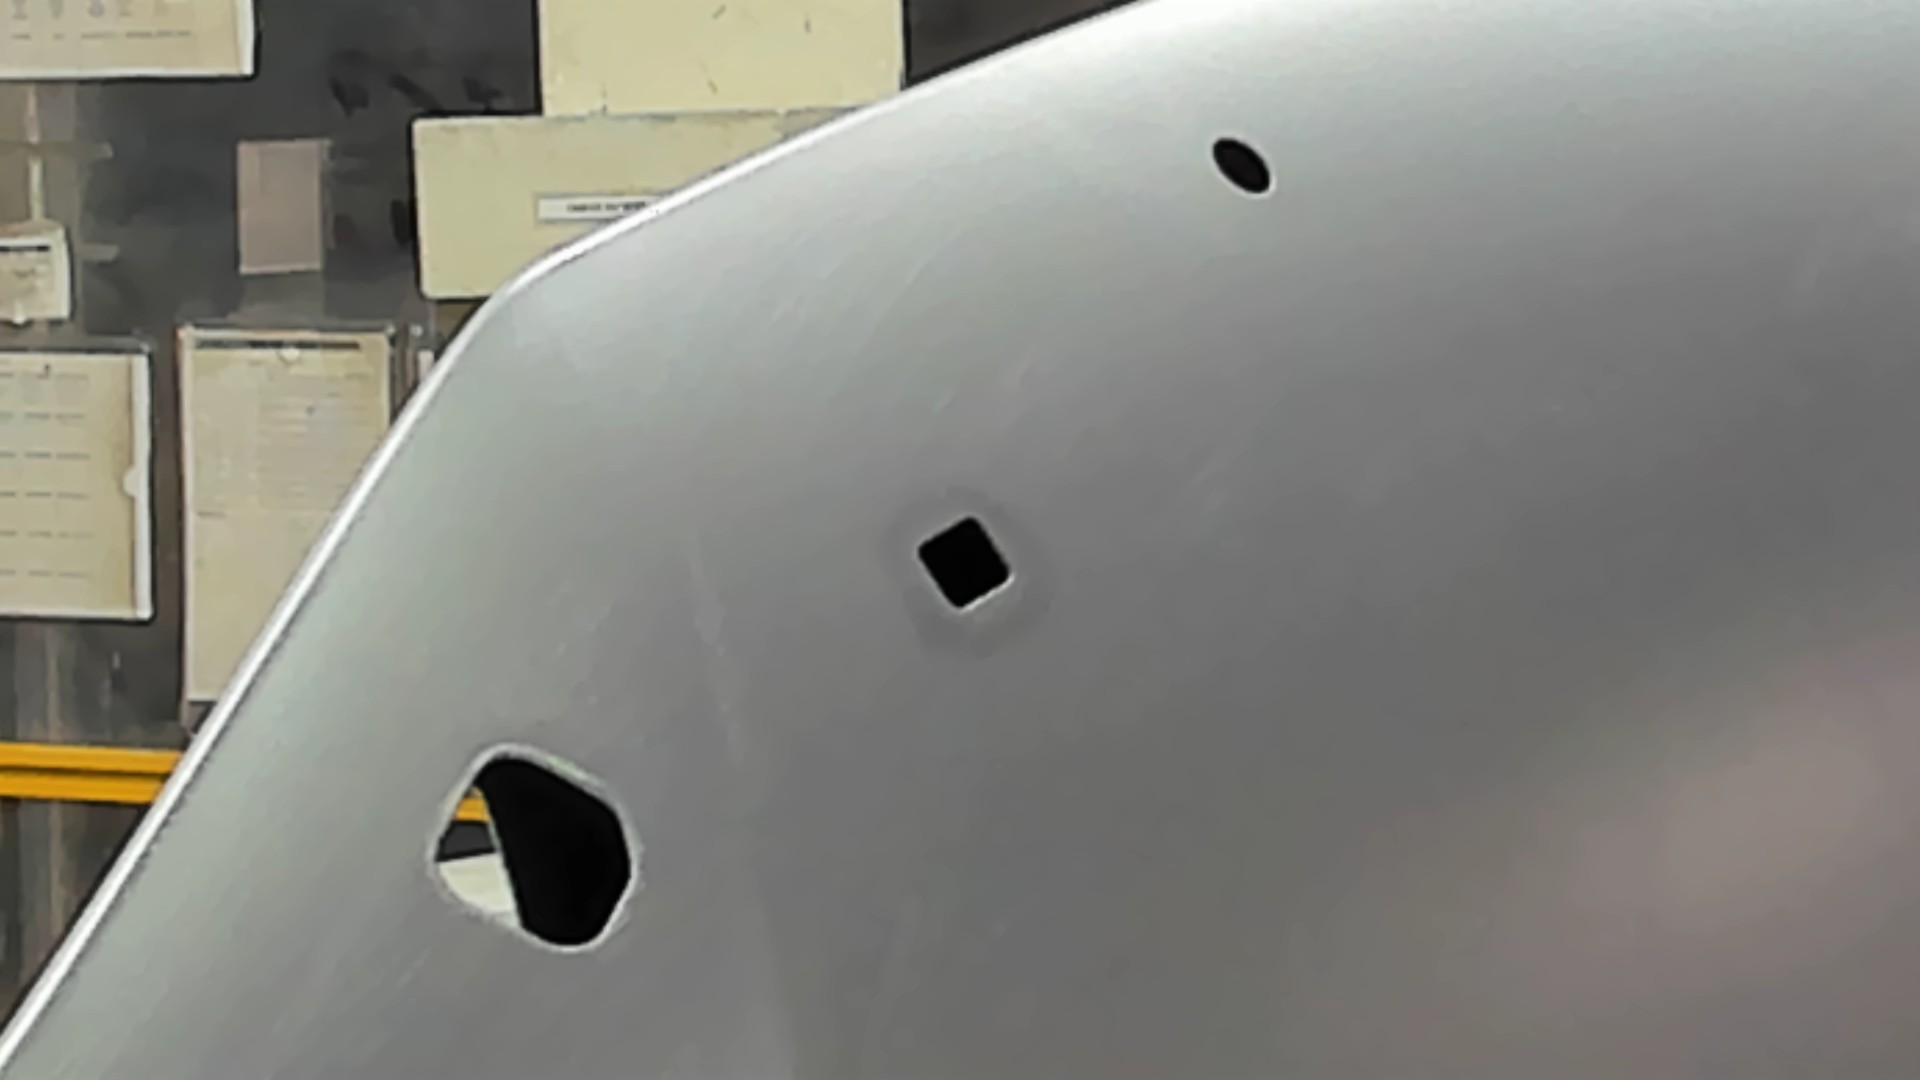chico: (1211, 133, 1275, 199)
grande: (425, 738, 642, 960)
mediano: (914, 513, 1015, 615)
